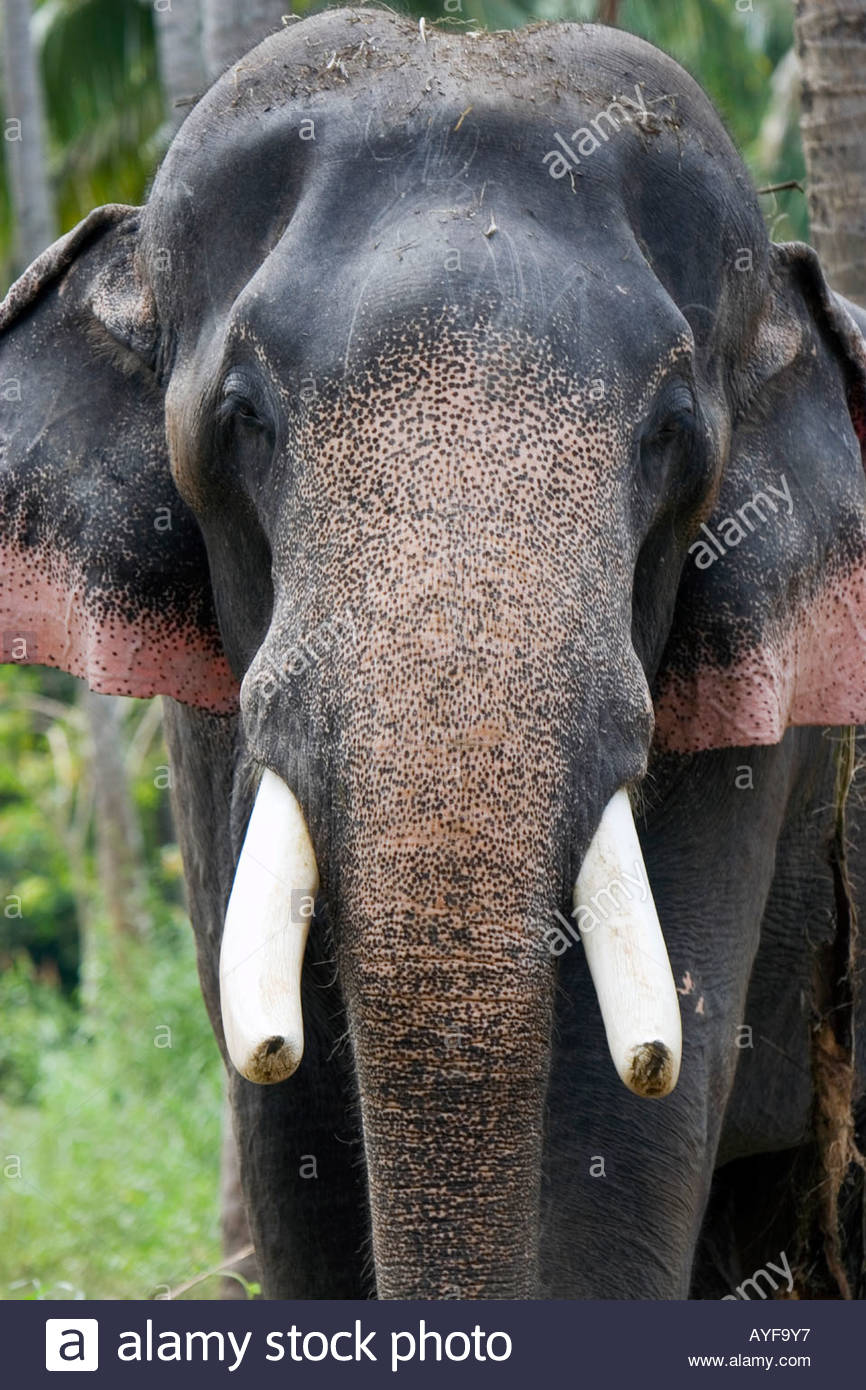Indian Elephant: (17, 13, 852, 1305)
